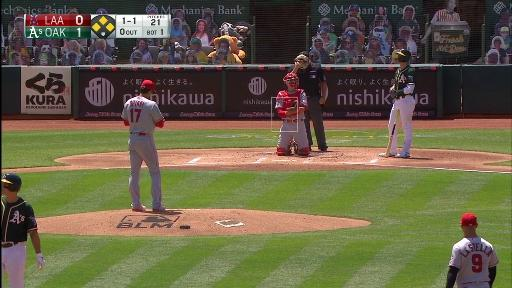pitcher: (122, 79, 165, 212)
